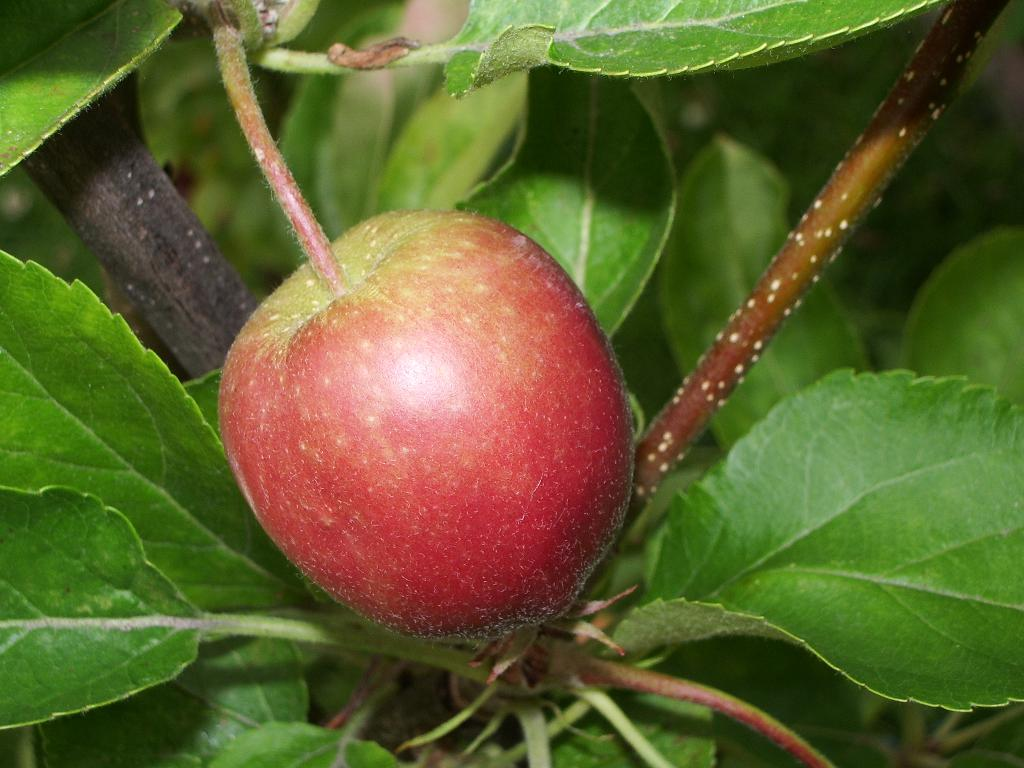Apple: (210, 201, 646, 627)
